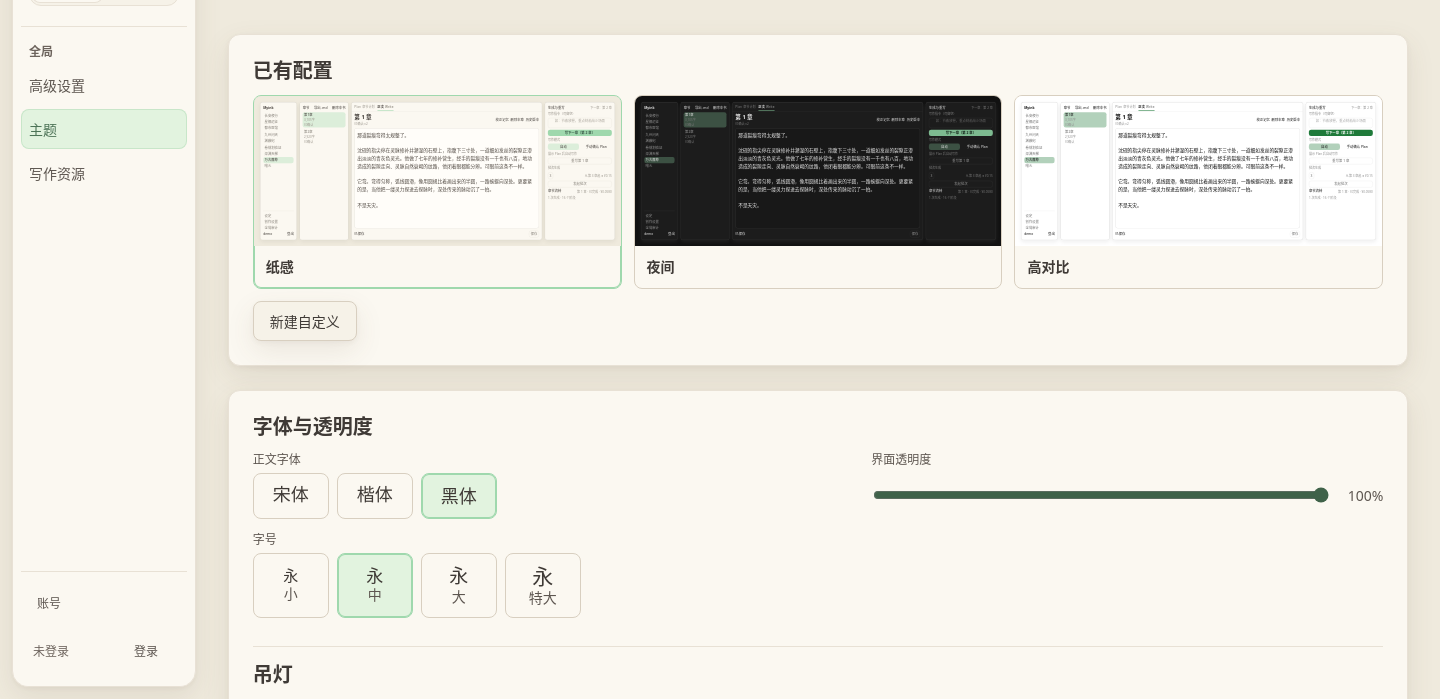
Scenario: asks before dropping an unsaved draft, and 取消 keeps it
Click the button "新建自定义".
click(305, 321)  # box [253,301,357,341]
(page scrolled)
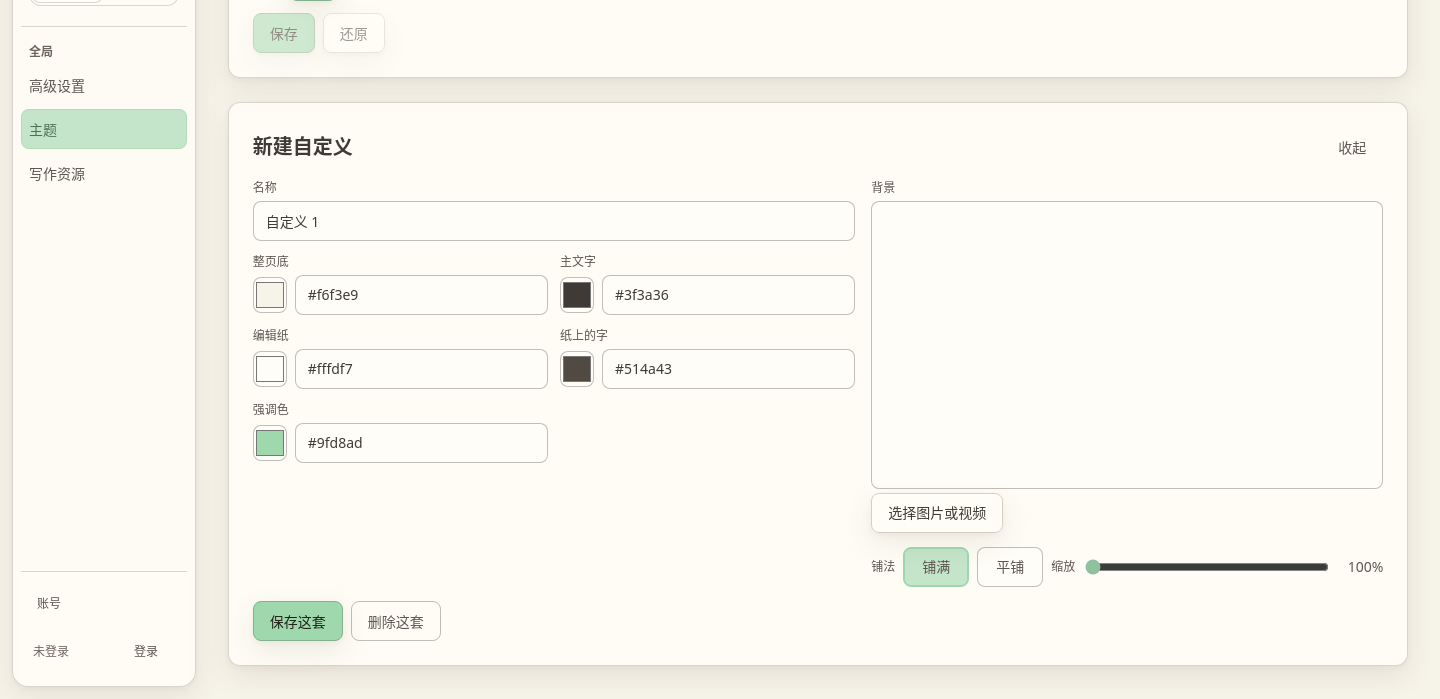
Replace the text in the field named "整页底" with "#112233" at (421, 295), box [295,275,548,315]
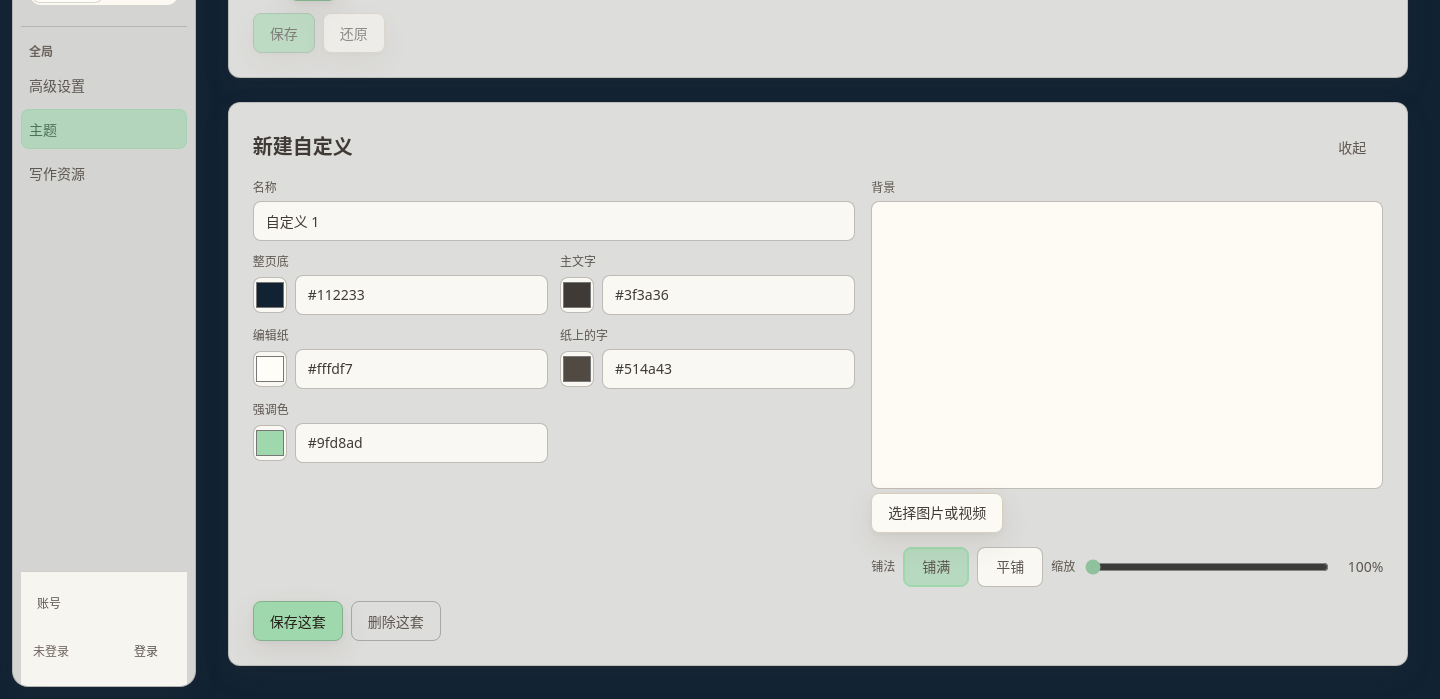
Click the button "收起".
click(1352, 147)  # box [1321,127,1383,167]
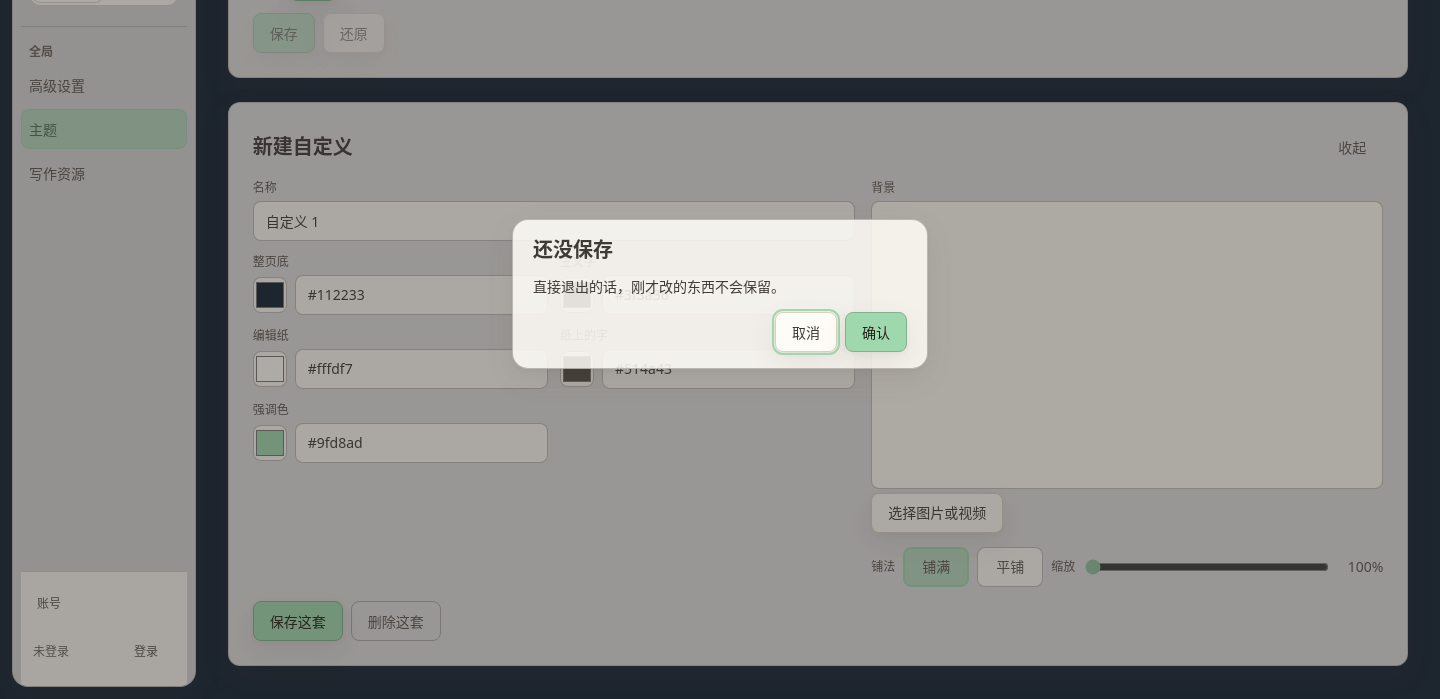
Check: the dialog "还没保存" is shown, box [512,219,928,369]
Click the button "取消".
click(806, 332)  # box [775,312,837,352]
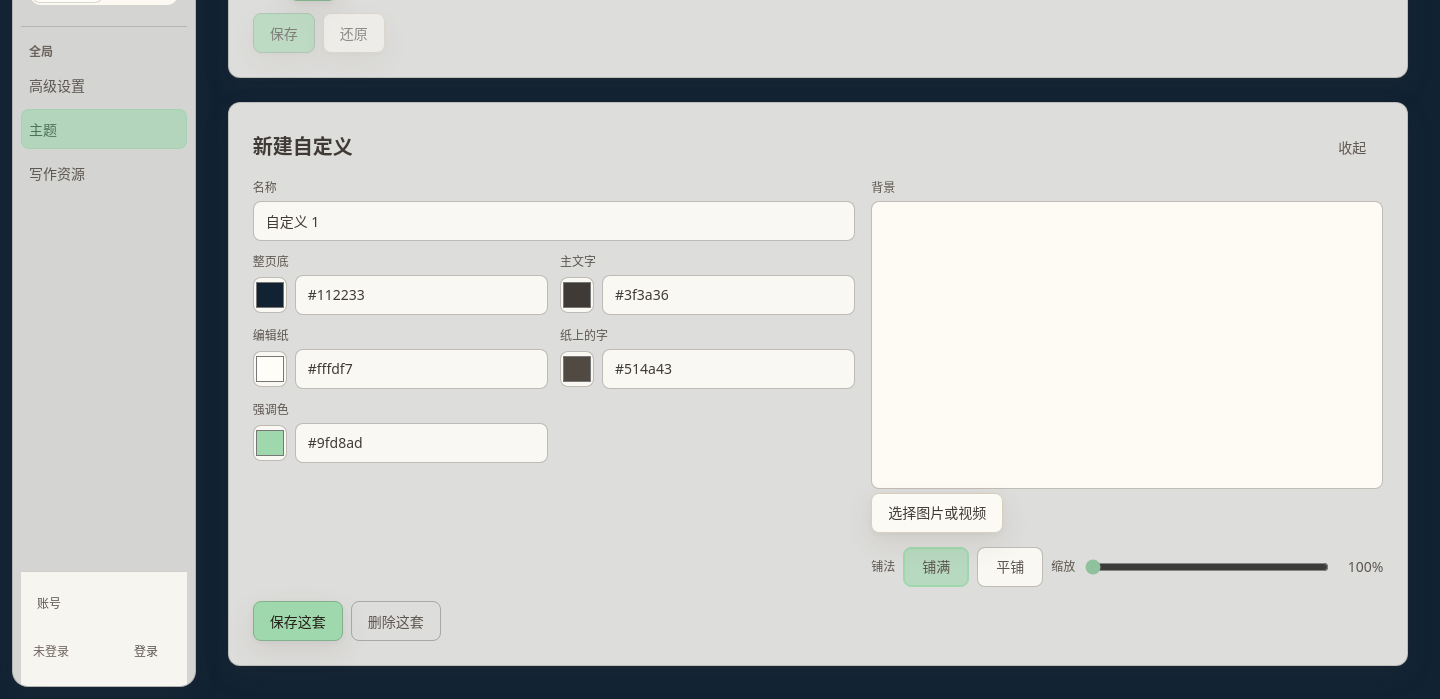
Check: the heading "还没保存" is gone
